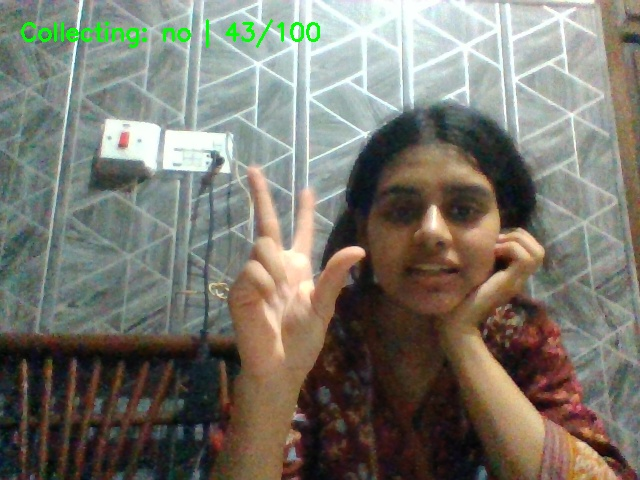no: (216, 158, 372, 451)
